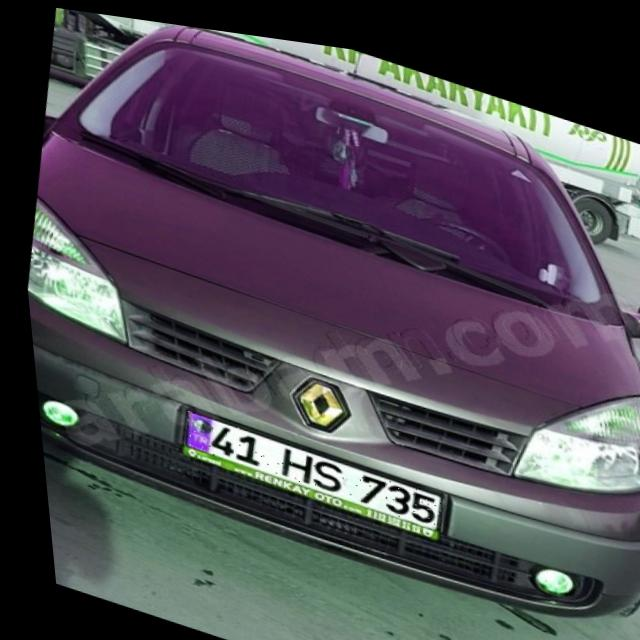license_plate: (171, 404, 438, 520)
